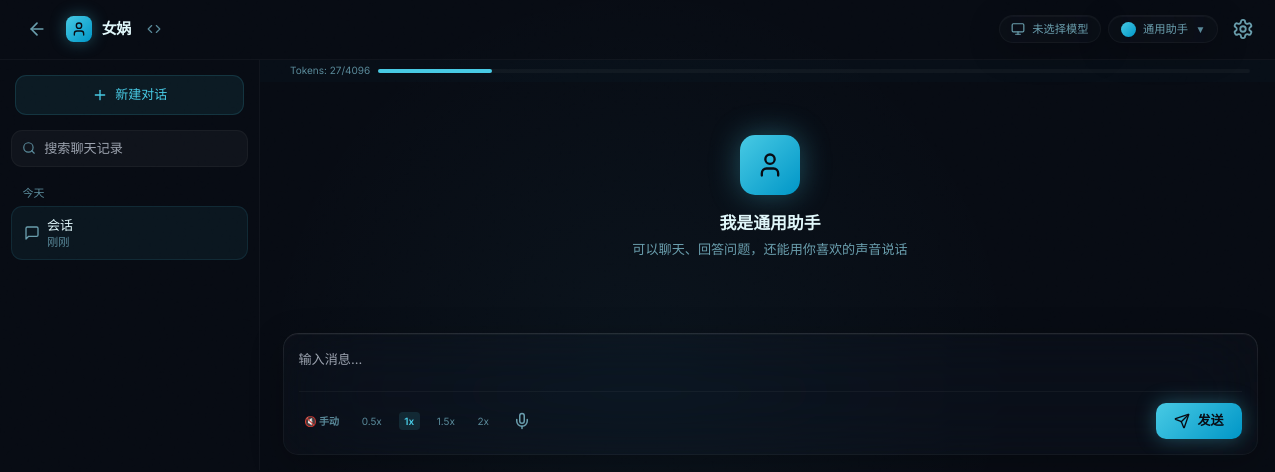
Enter 选中不发送 / Escape 关闭 (Req 4.6, 4.8) › Escape 关闭菜单且保留输入文本
The image size is (1275, 472).
Type "/cl" into the text box with placeholder "输入消息..." at (770, 361), box [298,349,1242,373]
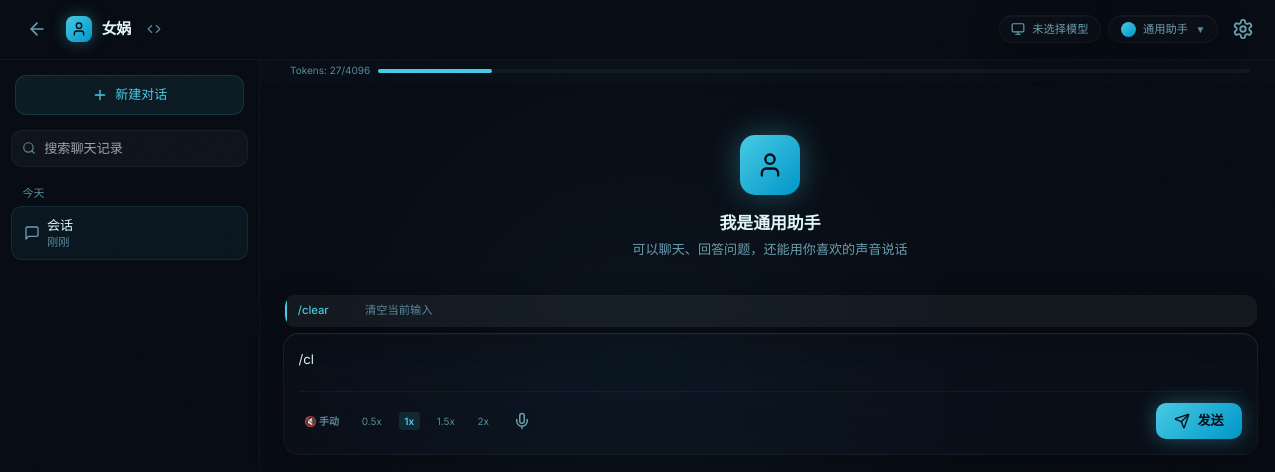
Expected: the list with test id "slash-command-menu" is shown, [284,295,1256,327]
Press Escape in the text box with placeholder "输入消息...", box [298,349,1242,373]
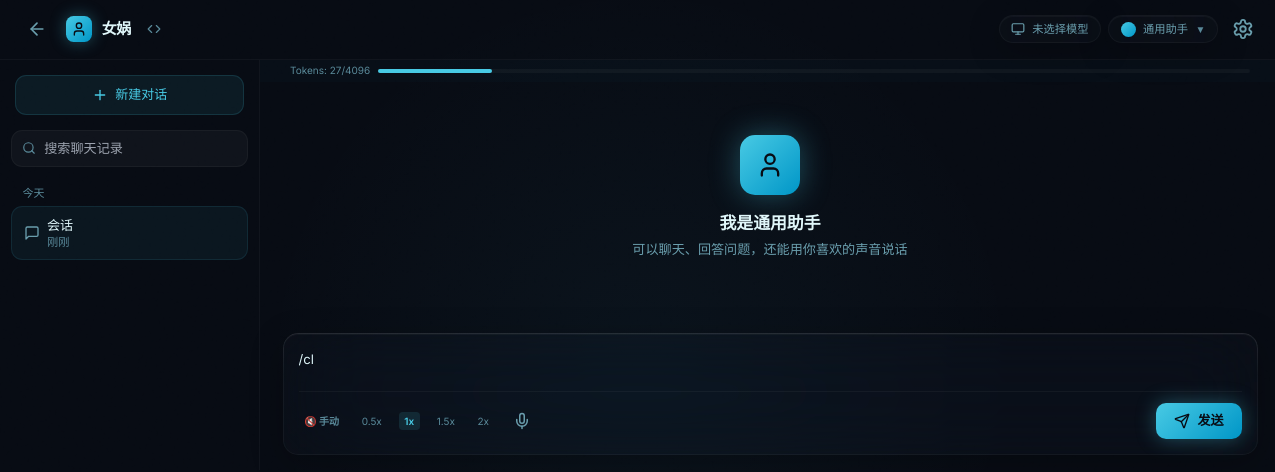
Expected: the list with test id "slash-command-menu" is gone
